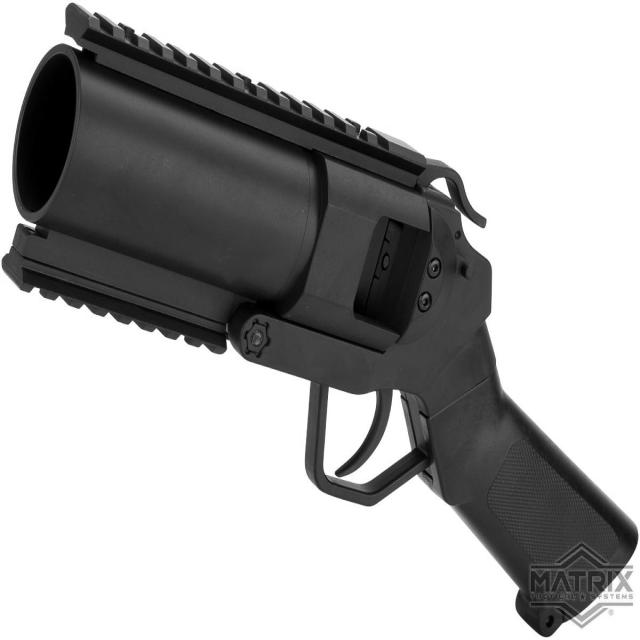Lancher: (11, 12, 636, 607)
